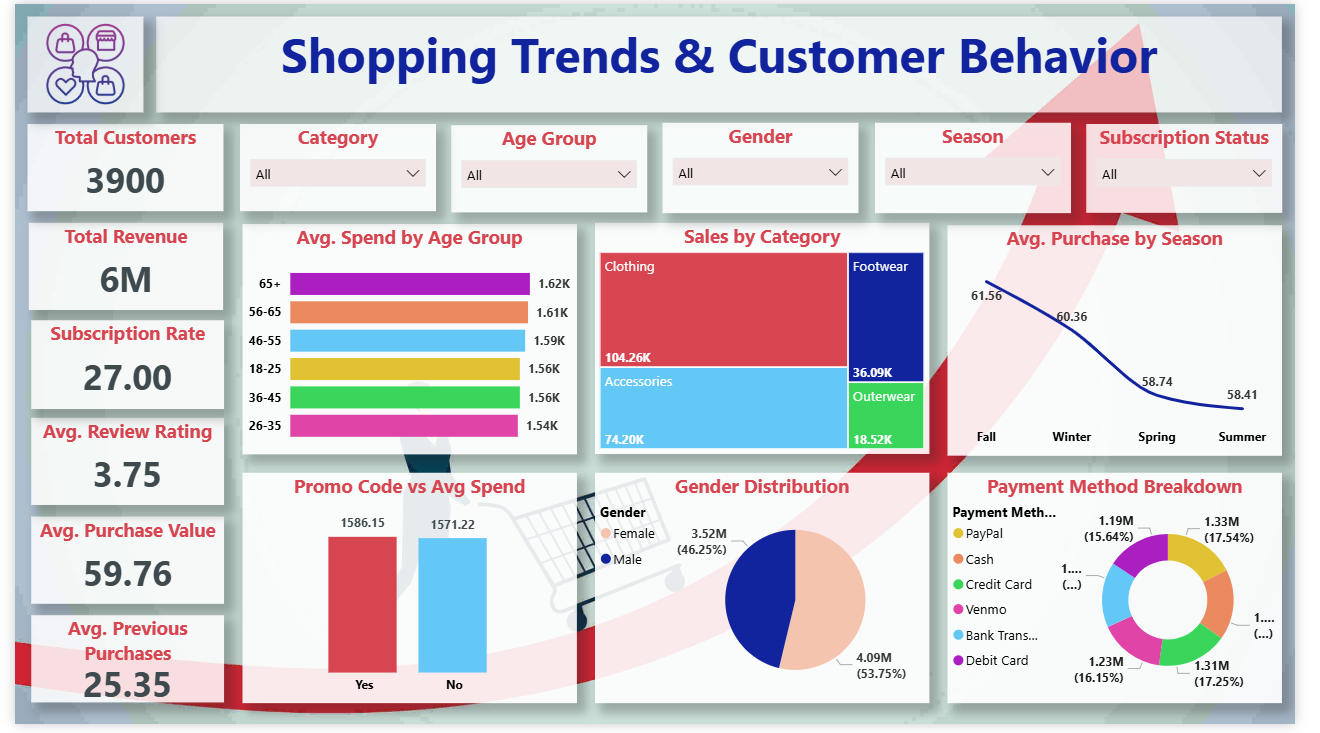

The dashboard page shown, as its layout file describes it:
{"tool":"powerbi","page":{"name":"Shopping Trend & Customer Behavior","canvas":[1280,720],"ordinal":0},"visuals":[{"type":"textbox","box":[141.4,12.9,1125.7,95.7],"z":0},{"type":"card","title":"Total Revenue","fields":{"Values":["All Measures.Total Revenue"]},"box":[14.3,218.6,194.3,87.1],"z":1000},{"type":"card","title":"Avg. Purchase Value","fields":{"Values":["All Measures.Average Purchase Value"]},"box":[15.7,512.9,192.9,87.1],"z":2000},{"type":"card","title":"Total Customers","fields":{"Values":["All Measures.Total Customers"]},"box":[12.9,120,195.7,87.1],"z":3000},{"type":"card","title":"Avg. Review Rating","fields":{"Values":["All Measures.Average Review Rating"]},"box":[16.2,413.8,192.5,87.5],"z":4000},{"type":"card","title":"Subscription Rate","fields":{"Values":["All Measures.Subscription_Rate"]},"box":[15.7,315.7,192.9,88.6],"z":5000},{"type":"card","title":"Avg. Previous Purchases","fields":{"Values":["All Measures.Average_Previous_Purchases"]},"box":[15.7,611.7,193,86.9],"z":6000},{"type":"barChart","title":"Avg. Spend by Age Group","fields":{"Y":["Avg(cleaned_Shopping_trend_and_customer_behaviour.total_spendings)"],"Category":["cleaned_Shopping_trend_and_customer_behaviour.age_group"]},"box":[226.8,219.6,334.2,230.4],"z":7000},{"type":"treemap","title":"Sales by Category","fields":{"Group":["cleaned_Shopping_trend_and_customer_behaviour.category"],"Values":["Sum(cleaned_Shopping_trend_and_customer_behaviour.purchase_amount_usd)"]},"box":[580,218.6,334.3,231.4],"z":8000},{"type":"lineChart","title":"Avg. Purchase by Season","fields":{"Category":["cleaned_Shopping_trend_and_customer_behaviour.season"],"Y":["Avg(cleaned_Shopping_trend_and_customer_behaviour.purchase_amount_usd)"]},"box":[932.6,218.4,334.2,231.6],"z":9000},{"type":"clusteredColumnChart","title":"Promo Code vs Avg Spend ","fields":{"Y":["Avg(cleaned_Shopping_trend_and_customer_behaviour.total_spendings)"],"Category":["cleaned_Shopping_trend_and_customer_behaviour.promo_code_used"]},"box":[227.1,468.6,334.3,230],"z":10000},{"type":"pieChart","title":"Gender Distribution","fields":{"Category":["cleaned_Shopping_trend_and_customer_behaviour.gender"],"Y":["Sum(cleaned_Shopping_trend_and_customer_behaviour.customer_id)"]},"box":[580,468.6,334.3,230],"z":11000},{"type":"donutChart","title":"Payment Method Breakdown","fields":{"Category":["cleaned_Shopping_trend_and_customer_behaviour.payment_method"],"Y":["Sum(cleaned_Shopping_trend_and_customer_behaviour.customer_id)"]},"box":[932.6,468.1,334.2,230.4],"z":12000},{"type":"slicer","title":"Subscription Status","fields":{"Values":["cleaned_Shopping_trend_and_customer_behaviour.subscription_status"]},"box":[1071.4,120,195.7,88.6],"z":13000},{"type":"slicer","title":"Age Group","fields":{"Values":["cleaned_Shopping_trend_and_customer_behaviour.age_group"]},"box":[436.3,121.4,195.7,87.1],"z":14000},{"type":"slicer","title":"Gender","fields":{"Values":["cleaned_Shopping_trend_and_customer_behaviour.gender"]},"box":[648,118.6,195.7,90],"z":15000},{"type":"slicer","title":"Category","fields":{"Values":["cleaned_Shopping_trend_and_customer_behaviour.category"]},"box":[224.6,120,195.7,87.1],"z":16000},{"type":"slicer","title":"Season","fields":{"Values":["cleaned_Shopping_trend_and_customer_behaviour.season"]},"box":[859.7,118.6,195.7,90],"z":17000},{"type":"image","box":[12.9,12.9,115.7,95.7],"z":18000}]}

Visuals, with their boxes in screenshot pixels (x1, y1, x2, y2), scaled from the page's 1280x720 canvas onto the 1320x733 screenshot:
textbox: bbox=(146, 13, 1307, 111)
"Total Revenue" card: bbox=(15, 223, 215, 311)
"Avg. Purchase Value" card: bbox=(16, 522, 215, 611)
"Total Customers" card: bbox=(13, 122, 215, 211)
"Avg. Review Rating" card: bbox=(17, 421, 215, 510)
"Subscription Rate" card: bbox=(16, 321, 215, 412)
"Avg. Previous Purchases" card: bbox=(16, 623, 215, 711)
"Avg. Spend by Age Group" barChart: bbox=(234, 224, 579, 458)
"Sales by Category" treemap: bbox=(598, 223, 943, 458)
"Avg. Purchase by Season" lineChart: bbox=(962, 222, 1306, 458)
"Promo Code vs Avg Spend " clusteredColumnChart: bbox=(234, 477, 579, 711)
"Gender Distribution" pieChart: bbox=(598, 477, 943, 711)
"Payment Method Breakdown" donutChart: bbox=(962, 477, 1306, 711)
"Subscription Status" slicer: bbox=(1105, 122, 1307, 212)
"Age Group" slicer: bbox=(450, 124, 652, 212)
"Gender" slicer: bbox=(668, 121, 870, 212)
"Category" slicer: bbox=(232, 122, 433, 211)
"Season" slicer: bbox=(887, 121, 1088, 212)
image: bbox=(13, 13, 133, 111)
